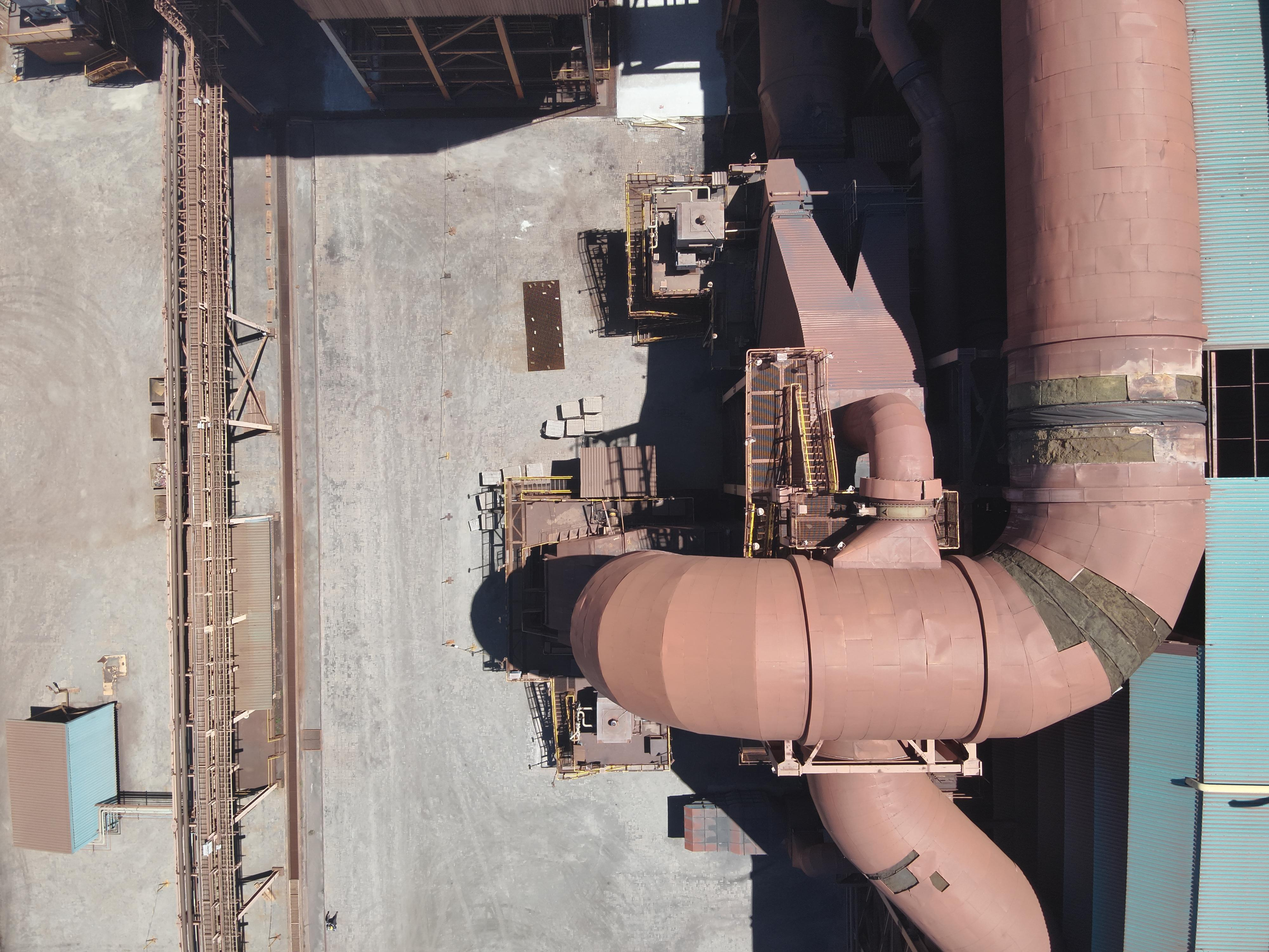Failures: (984, 544, 1170, 683), (1003, 379, 1212, 465), (867, 853, 919, 899), (927, 869, 950, 895)
